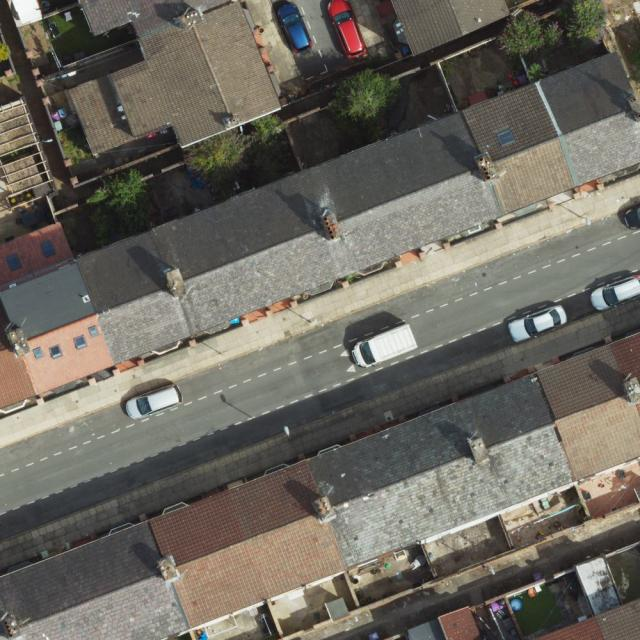roof: (0, 49, 640, 406), (0, 330, 640, 640), (69, 0, 282, 156), (393, 0, 513, 54), (535, 598, 640, 640), (407, 605, 482, 639)
skylight: (493, 128, 517, 150), (40, 240, 58, 260), (5, 252, 22, 273), (70, 334, 89, 351), (47, 344, 64, 360), (87, 323, 102, 340), (34, 345, 44, 362)
